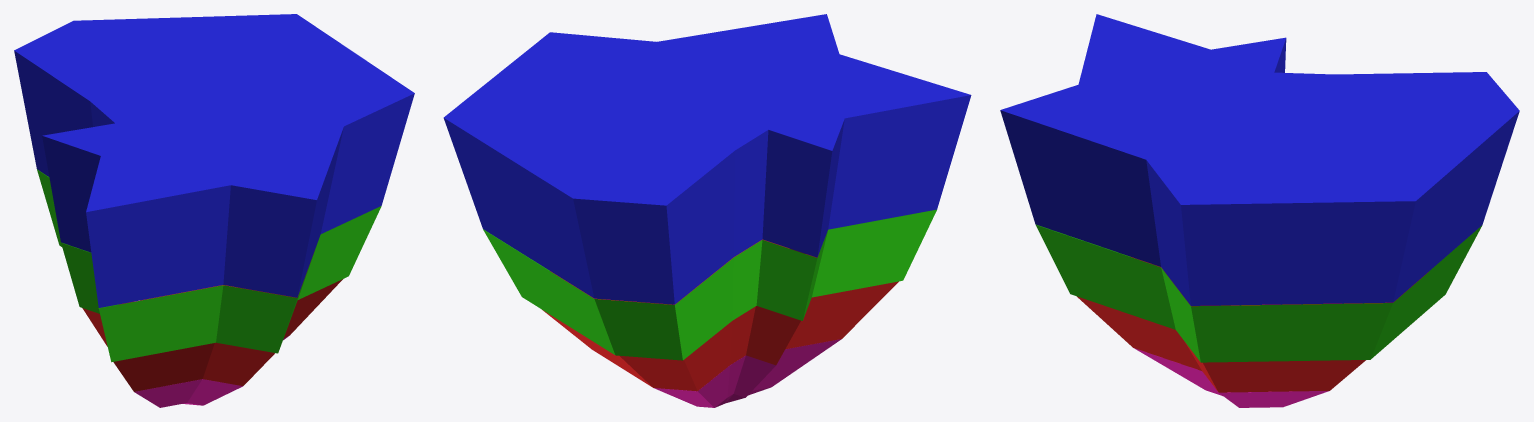
File: coloredIsland.fbx
3 views of the same model, side by side, from view 1: azimuth 30°, elevation 25°; view 2: azimuth 150°, elevation 25°; view 3: azimuth 270°, elevation 25° (orthographic). The views are drawn at different scales.
Visible parts, largest first — view 1: colors; view 2: colors; view 3: colors.
Boxes of the visible parts, bbox=[...] form: colors: bbox=[14, 14, 414, 407]; colors: bbox=[443, 14, 971, 407]; colors: bbox=[1000, 14, 1519, 407].
Size of the model in its own units: 392 by 290 by 451.
